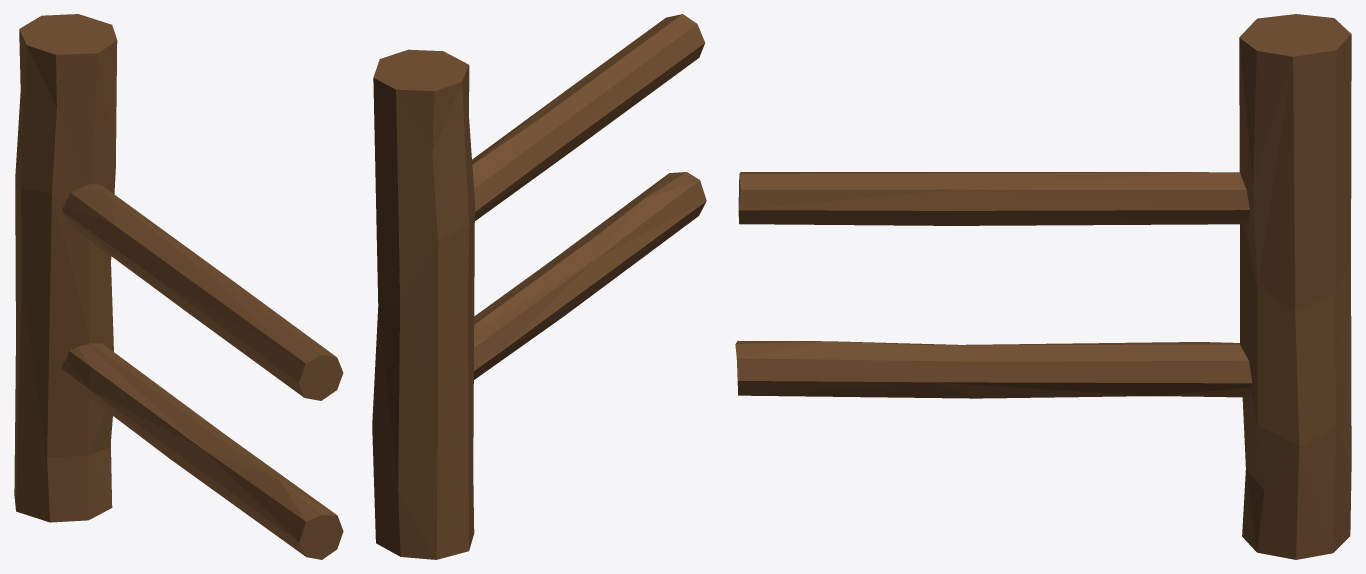
File: fence_right.glb
3 views of the same model, side by side, from view 1: azimuth 30°, elevation 25°; view 2: azimuth 150°, elevation 25°; view 3: azimuth 270°, elevation 25° (orthographic). The views are drawn at different scales.
Visible parts, largest first — view 1: Cylinder.003; view 2: Cylinder.003; view 3: Cylinder.003.
Part boxes in pixels (x1=…): Cylinder.003: x1=14, y1=14, x2=343, y2=559; Cylinder.003: x1=372, y1=14, x2=706, y2=559; Cylinder.003: x1=735, y1=14, x2=1351, y2=559.
Bounding box in the file's own units: 0.2086 × 1 × 1.11.
